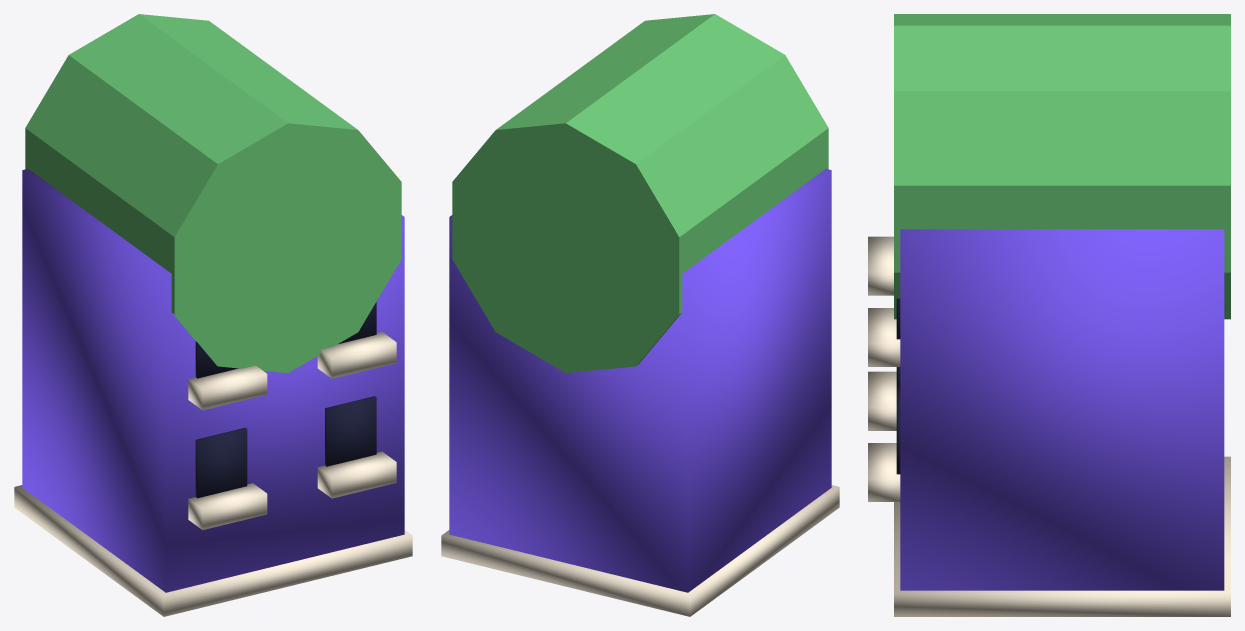
The model's file is building_c.glb.
3 renders of one model, left to right at view 1: azimuth 30°, elevation 25°; view 2: azimuth 150°, elevation 25°; view 3: azimuth 270°, elevation 25°, orthographic. The views are drawn at different scales.
Parts seen in each view (by area): view 1: building_c; view 2: building_c; view 3: building_c.
Part boxes in pixels (<box>): building_c: <box>14,14,412,616</box>; building_c: <box>441,14,839,616</box>; building_c: <box>868,14,1230,616</box>.
Size of the model in its own units: 5 by 8.9 by 5.6.
